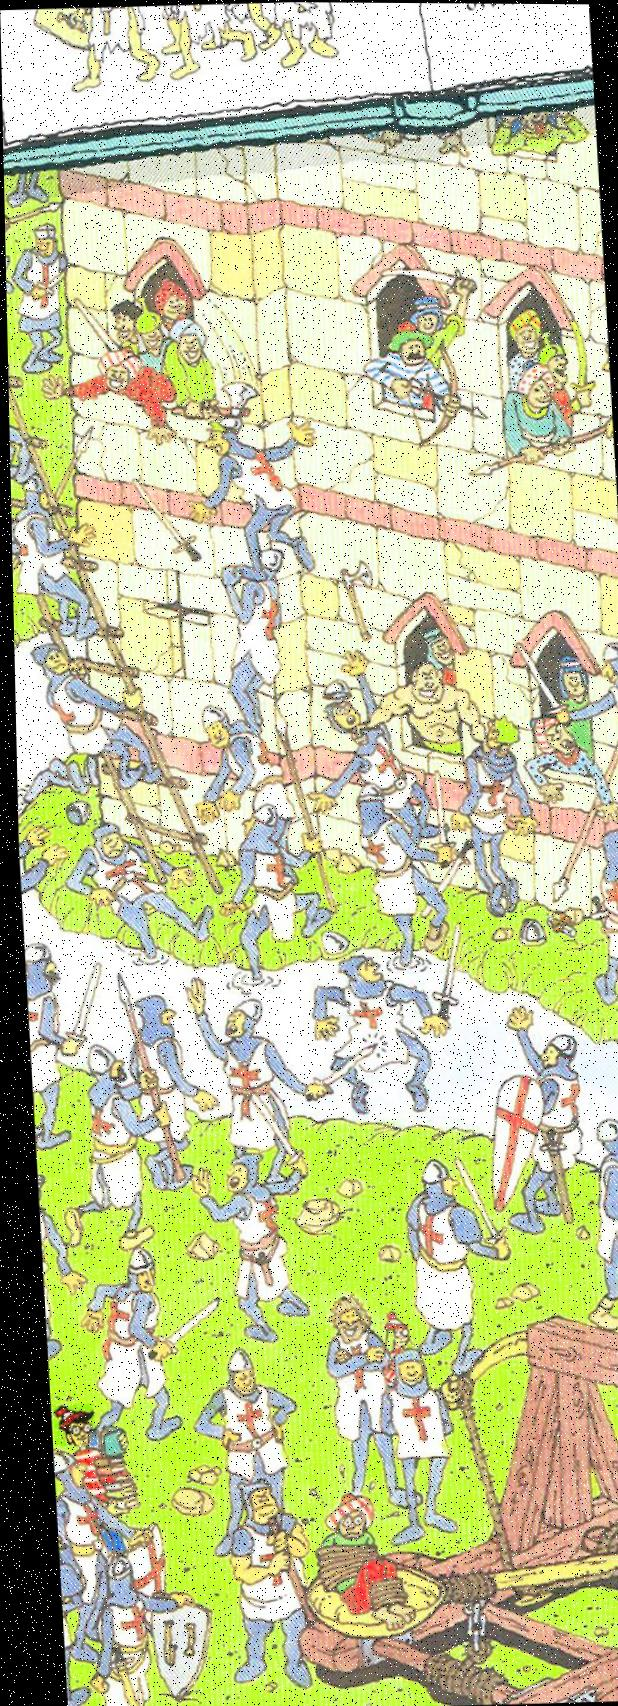waldo: (46, 1404, 89, 1447)
